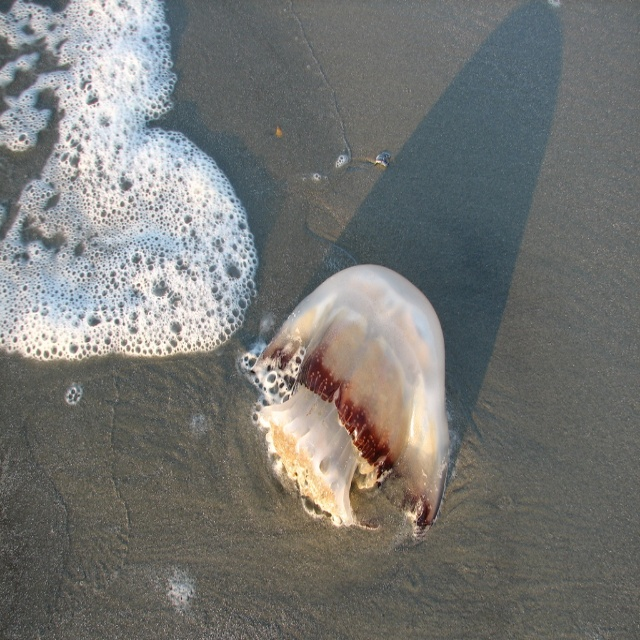Jellyfish: (243, 269, 459, 535)
